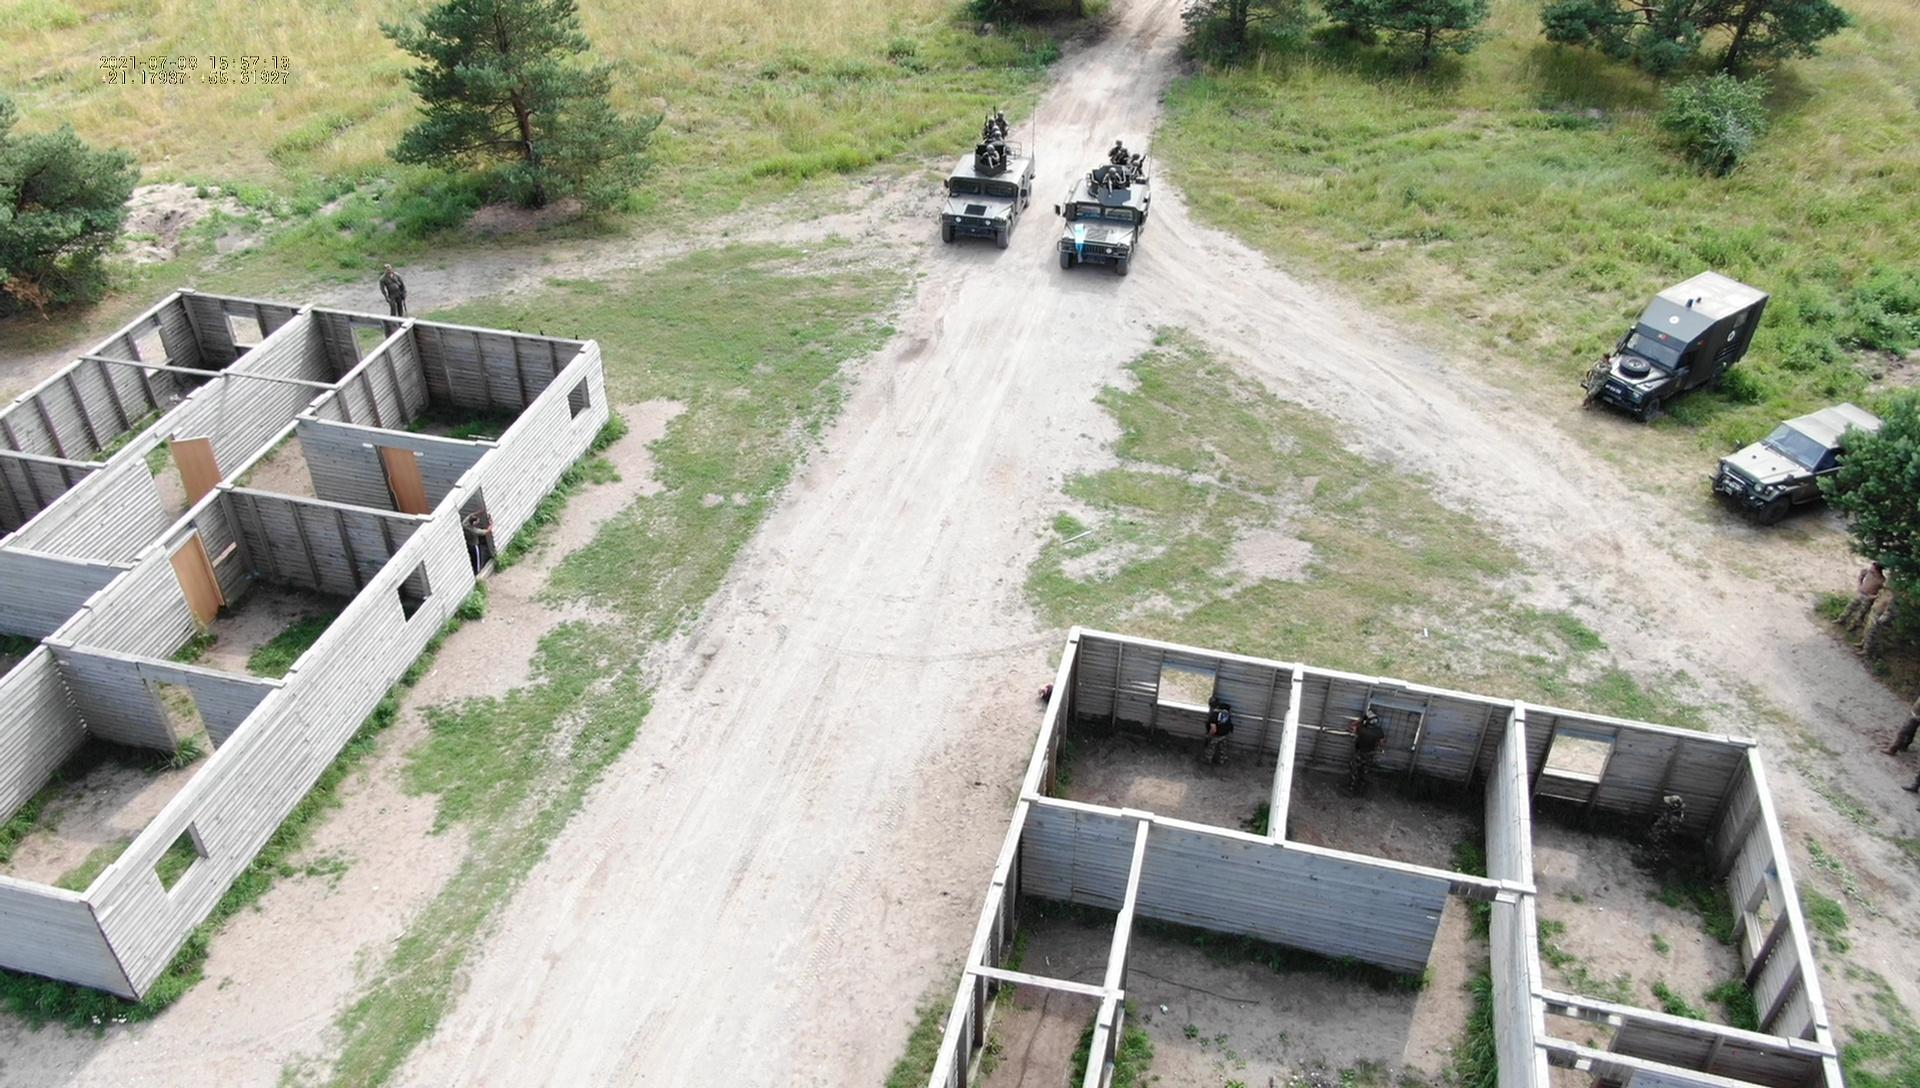Soldier: (1655, 803, 1721, 894), (1341, 712, 1393, 814), (1846, 554, 1883, 644), (1865, 578, 1899, 669), (1578, 349, 1614, 425), (376, 260, 415, 320), (1106, 136, 1135, 166), (1100, 167, 1127, 193), (980, 138, 1004, 167), (992, 111, 1015, 135), (978, 117, 1006, 137)
